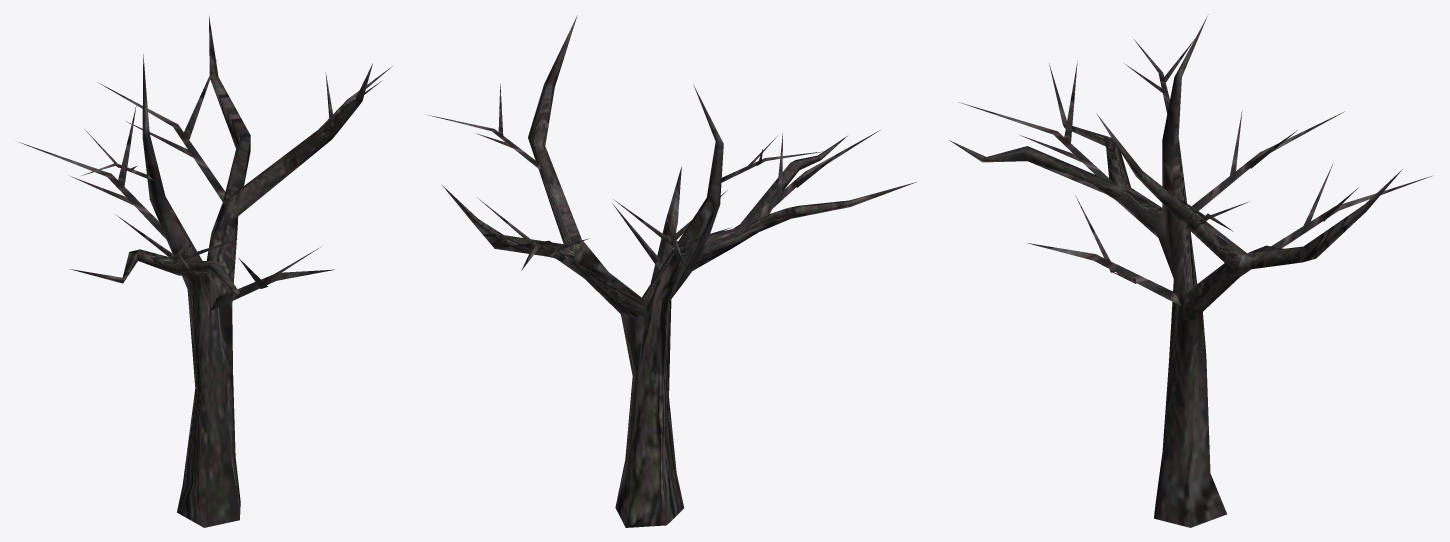
The picture shows the model from 3 angles, left to right: view 1: azimuth 30°, elevation 25°; view 2: azimuth 150°, elevation 25°; view 3: azimuth 270°, elevation 25°; orthographic projection. The views are drawn at different scales.
Visible parts, largest first — view 1: Tree03; view 2: Tree03; view 3: Tree03.
Boxes of the visible parts, x1=… form: Tree03: x1=18, y1=16, x2=393, y2=527; Tree03: x1=428, y1=15, x2=917, y2=527; Tree03: x1=949, y1=14, x2=1431, y2=527.
Bounding box in the file's own units: 505 × 538 × 505.
